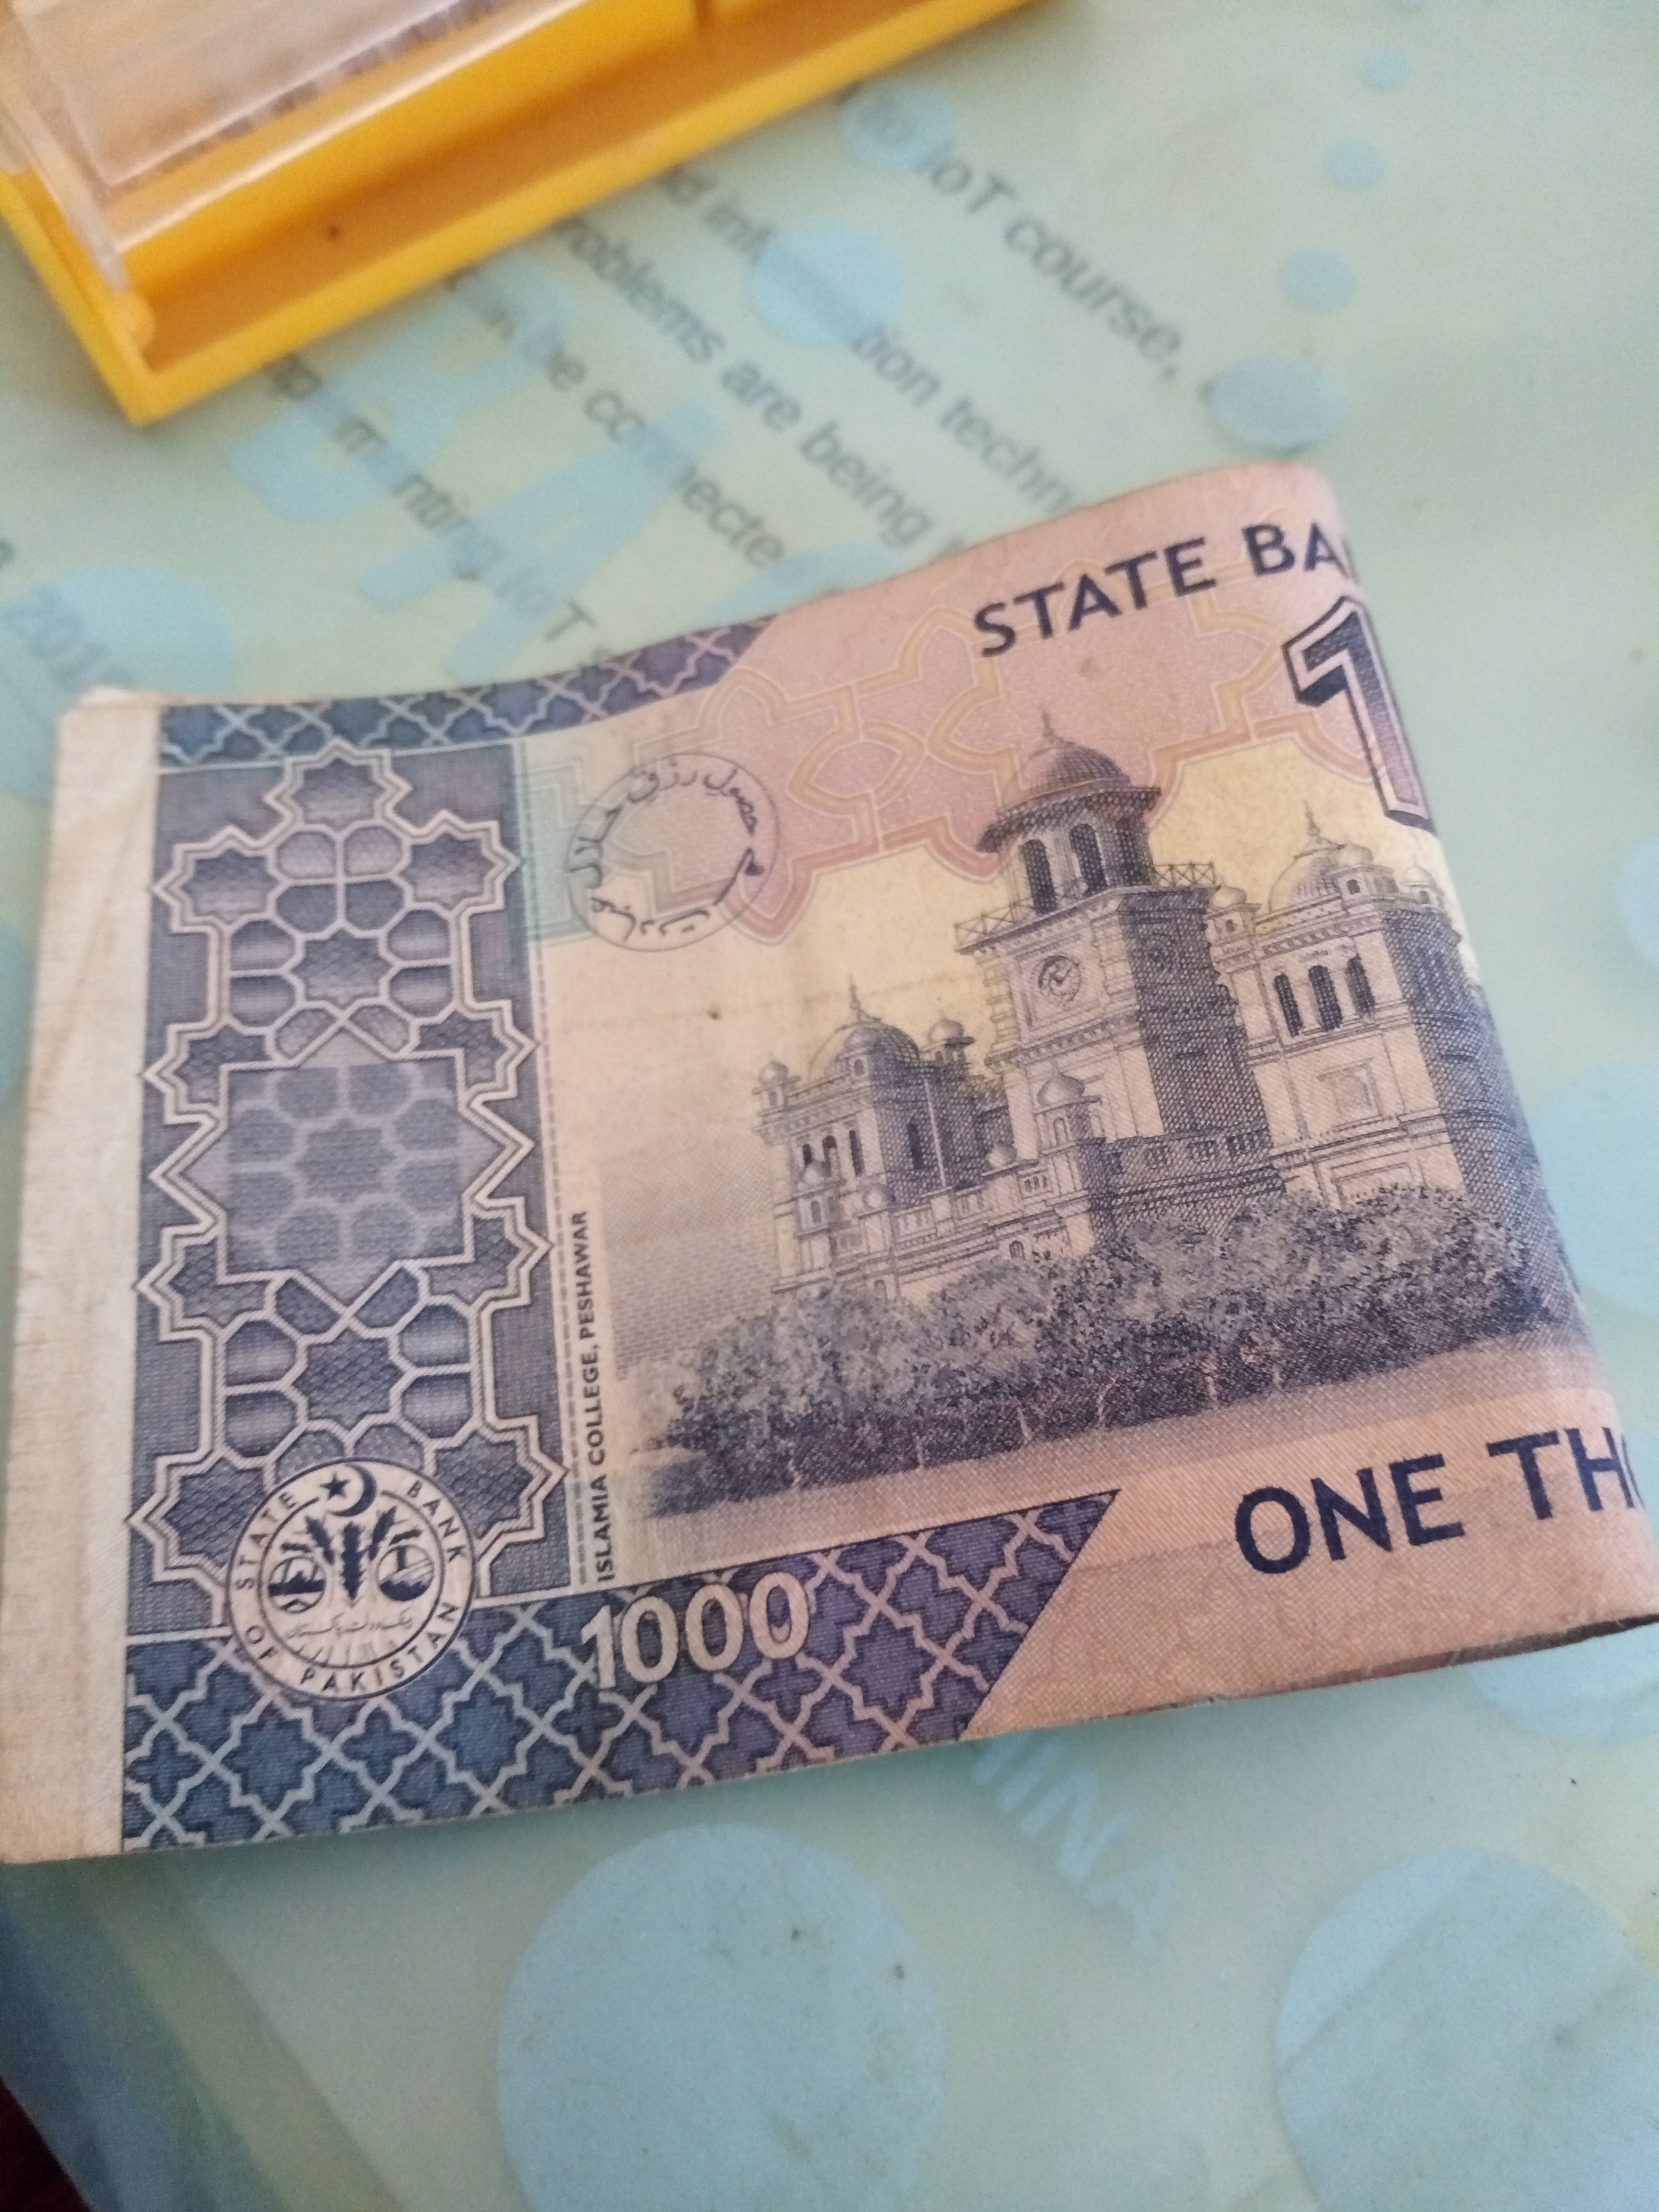1000 rupee: (44, 387, 1635, 1916)
